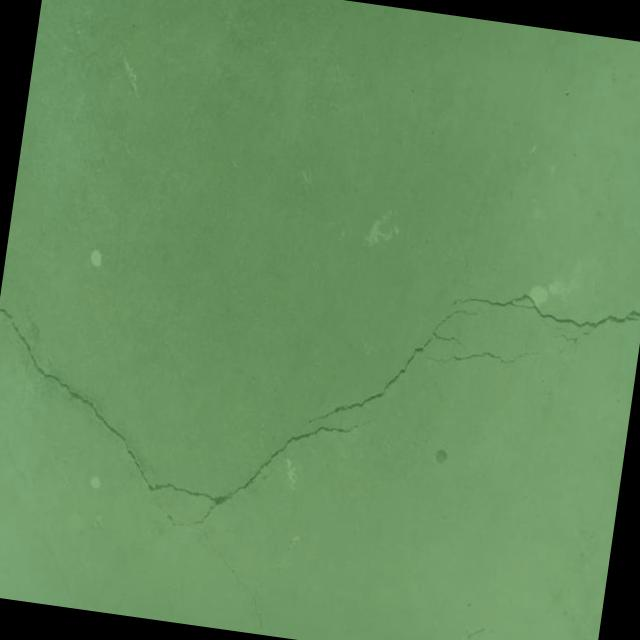crack: (0, 307, 385, 552), (302, 286, 486, 448), (446, 282, 640, 353), (192, 532, 275, 630), (425, 332, 547, 377), (454, 227, 478, 288)
